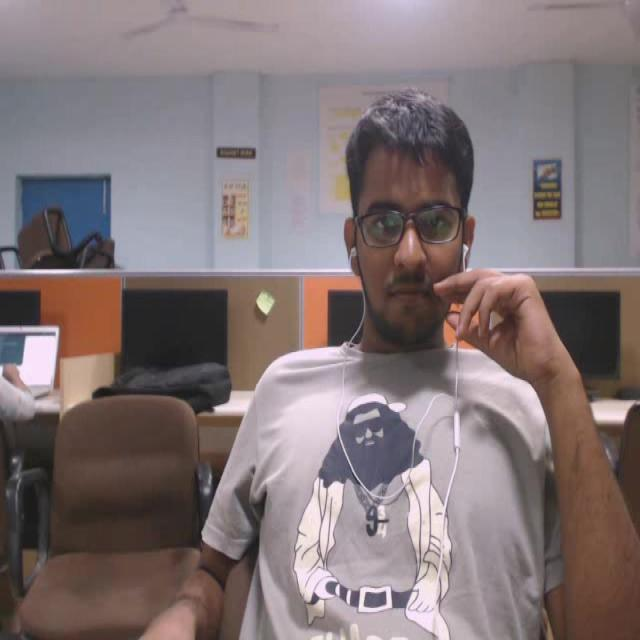Engaged: (316, 71, 513, 394)
